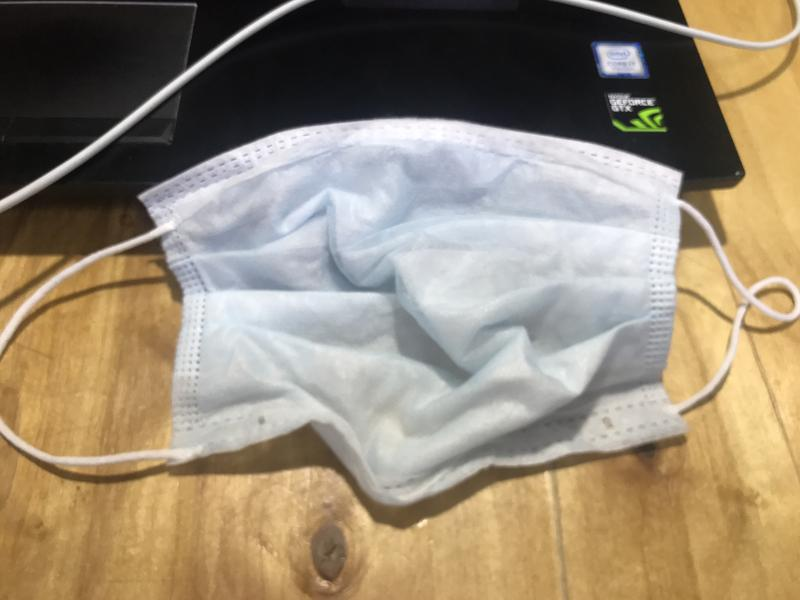medical_mask: (1, 115, 800, 506)
